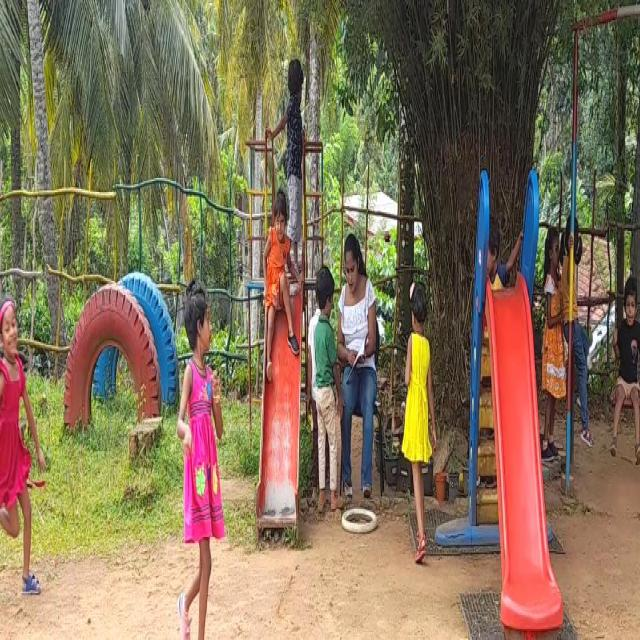adult: (338, 232, 382, 514)
child: (172, 279, 226, 640), (0, 281, 39, 592), (398, 267, 439, 553), (607, 253, 640, 474), (309, 259, 338, 506), (264, 208, 298, 396), (562, 196, 588, 428), (536, 213, 561, 438), (280, 51, 314, 196)
